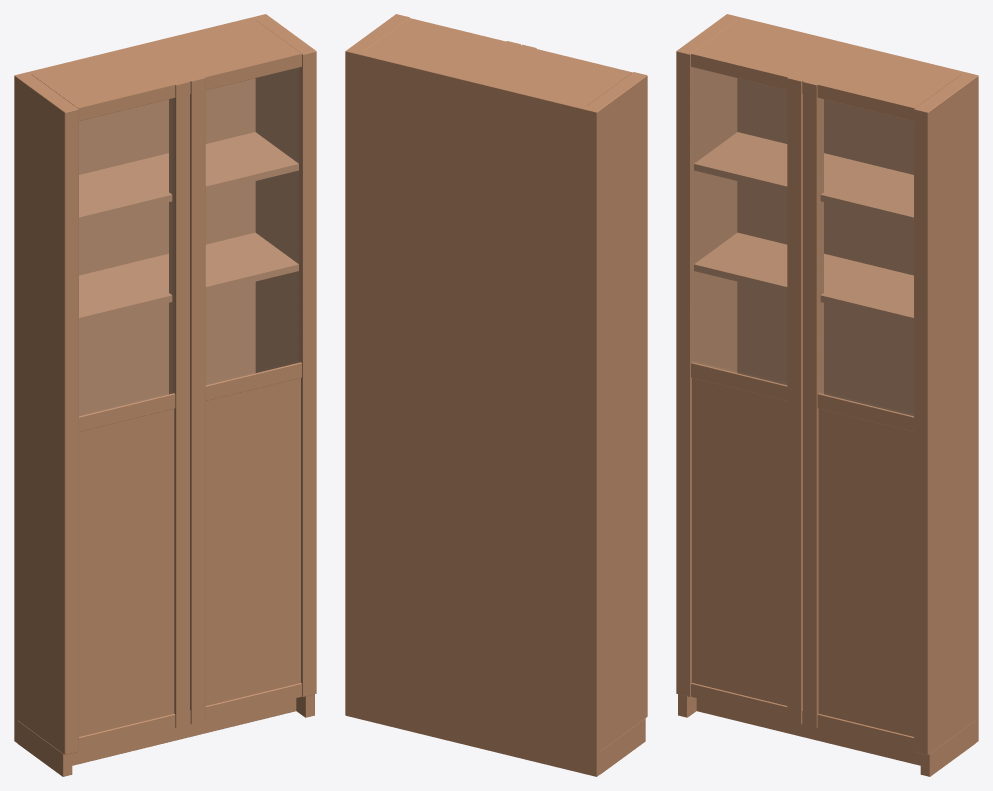
Rendered from IKEA-BILLY_Bibliotheque-3D.obj.
3 views of the same model, side by side, from view 1: azimuth 30°, elevation 25°; view 2: azimuth 150°, elevation 25°; view 3: azimuth 330°, elevation 25° (orthographic).
Parts seen in each view (by area): view 1: Box001, Box005, Box015, Box016, Box002, Rectangle001, Box003, Box004, Box011, Box012, Box008, Box010 (+2 smaller); view 2: Box005, Box001, Rectangle001, Box006, Box002; view 3: Box002, Box005, Box016, Box015, Box001, Rectangle001, Box004, Box003, Box011, Box012, Box008, Box009 (+2 smaller).
Boxes of the visible parts, x1,y1,x2,y2 form: Box001: (17,74,78,754); Box005: (14,14,268,743); Box015: (79,409,174,736); Box016: (205,378,300,705); Box002: (255,16,316,696); Rectangle001: (32,20,301,750); Box003: (169,77,189,727); Box004: (190,74,205,724); Box011: (79,232,298,324); Box012: (79,132,298,223); Box008: (72,698,296,765); Box010: (205,362,301,400); Box005: (345,48,600,776); Box001: (587,72,647,750); Rectangle001: (363,18,632,106); Box006: (600,718,645,774); Box002: (349,14,409,51); Box002: (914,74,975,754); Box005: (724,14,978,743); Box016: (818,409,913,736); Box015: (692,378,787,705); Box001: (676,16,737,696); Rectangle001: (691,20,960,750); Box004: (803,77,823,727); Box003: (787,74,806,724); Box011: (694,232,913,324); Box012: (694,132,913,223); Box008: (696,698,920,765); Box009: (691,362,787,400).
Size of the model in its own units: 800 by 2020 by 280.
